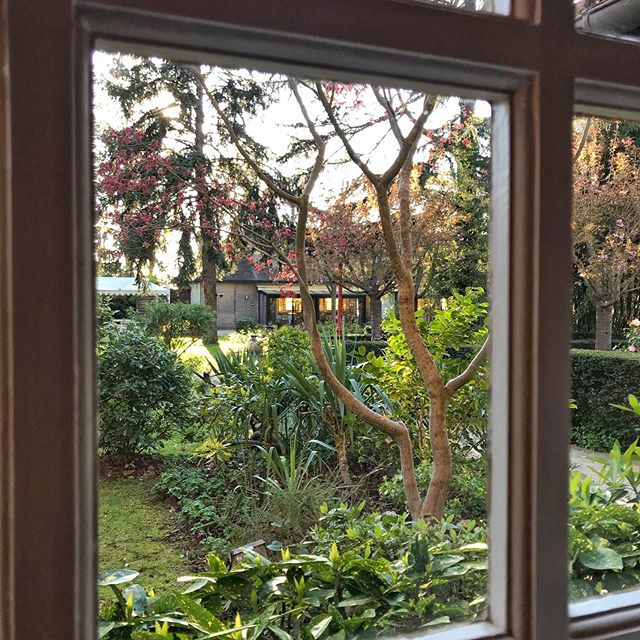building: (191, 228, 428, 326)
vegetation: (85, 49, 486, 640)
